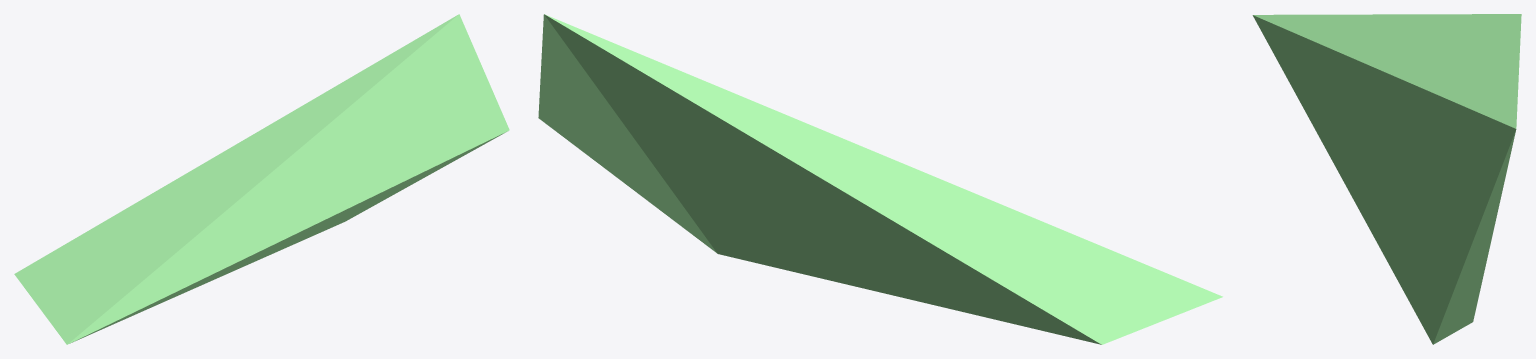
File: xarm7_with_gripper_robot_base_coll_16.dae
The picture shows the model from 3 angles, left to right: view 1: azimuth 30°, elevation 25°; view 2: azimuth 150°, elevation 25°; view 3: azimuth 270°, elevation 25°; orthographic projection. The views are drawn at different scales.
Parts seen in each view (by area): view 1: Node_000001B89B5E5B60; view 2: Node_000001B89B5E5B60; view 3: Node_000001B89B5E5B60.
Part boxes in pixels (x1,y1,x2,y2): Node_000001B89B5E5B60: (14, 14, 509, 344); Node_000001B89B5E5B60: (538, 14, 1222, 344); Node_000001B89B5E5B60: (1252, 14, 1521, 344).
Size of the model in its own units: 0.086 by 0.028 by 0.0225.
